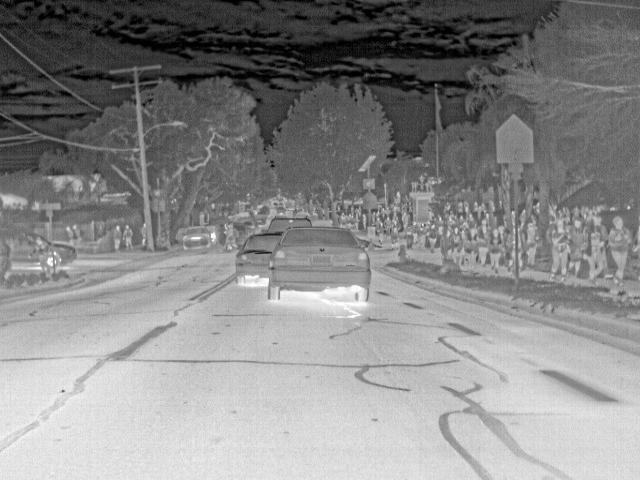car: (268, 226, 370, 304), (1, 231, 77, 269), (235, 234, 286, 288), (180, 224, 211, 250), (268, 218, 312, 236), (219, 221, 247, 245), (233, 216, 259, 234), (206, 223, 217, 244), (254, 212, 266, 225), (258, 206, 270, 215), (276, 205, 286, 214)
person: (607, 213, 632, 286), (586, 212, 608, 286), (549, 218, 569, 283), (570, 214, 588, 278), (507, 226, 523, 269), (33, 235, 50, 275), (489, 227, 503, 273), (524, 222, 538, 266), (475, 223, 488, 267), (450, 224, 461, 266), (464, 227, 475, 267), (122, 222, 134, 252), (112, 223, 124, 252), (428, 222, 438, 254), (411, 218, 420, 244), (73, 223, 84, 244), (228, 222, 236, 250), (140, 220, 148, 248), (390, 220, 398, 246), (65, 223, 75, 243), (377, 219, 385, 243), (445, 214, 455, 232), (339, 211, 348, 230), (465, 213, 477, 227), (517, 207, 525, 226), (508, 208, 516, 226), (360, 211, 367, 230), (456, 214, 465, 227)
